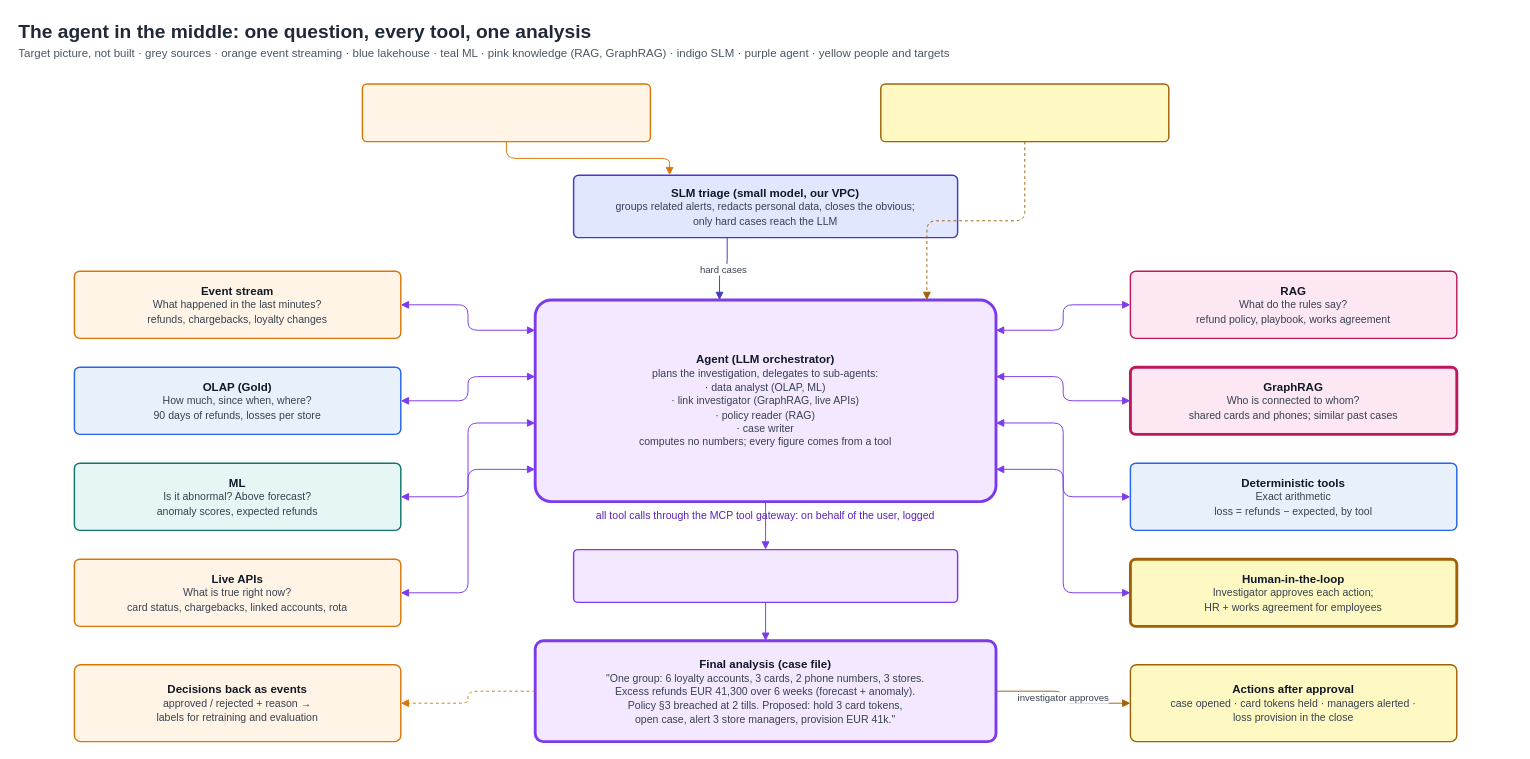
The diagram is 1530 pixels wide and 759 high, and some of its shapes have lost their labels. The centre of each missing label's shape, as x and y in pixels:
Guardrails figure check · no employee names · citations · structured proposal: (x=765, y=575)
Or: the investigator asks "Is this one group? How much? What now?": (x=1024, y=112)
Trigger: fraud-alert event from the stream, 02:14, refunds spike at 3 stores: (x=506, y=112)
